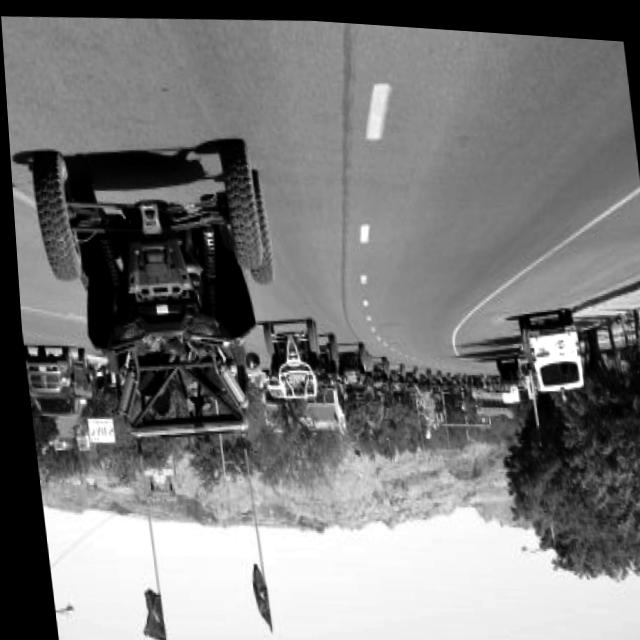cleat: (1, 27, 640, 428)
